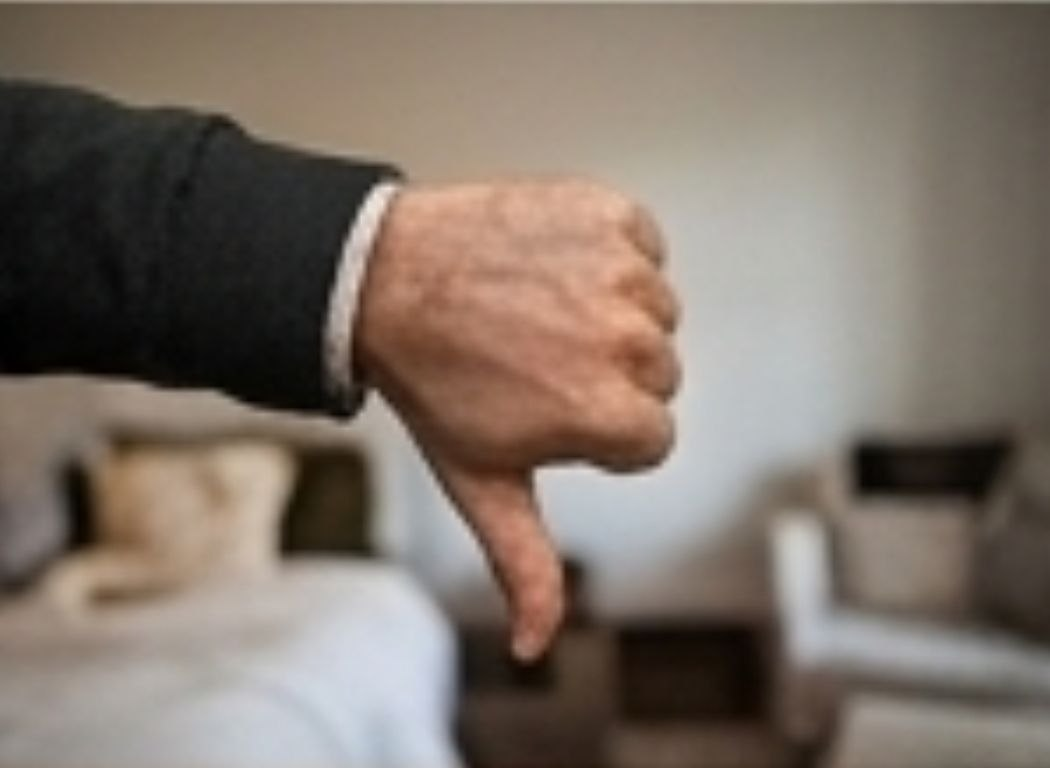Thumbs down: (317, 131, 710, 680)
